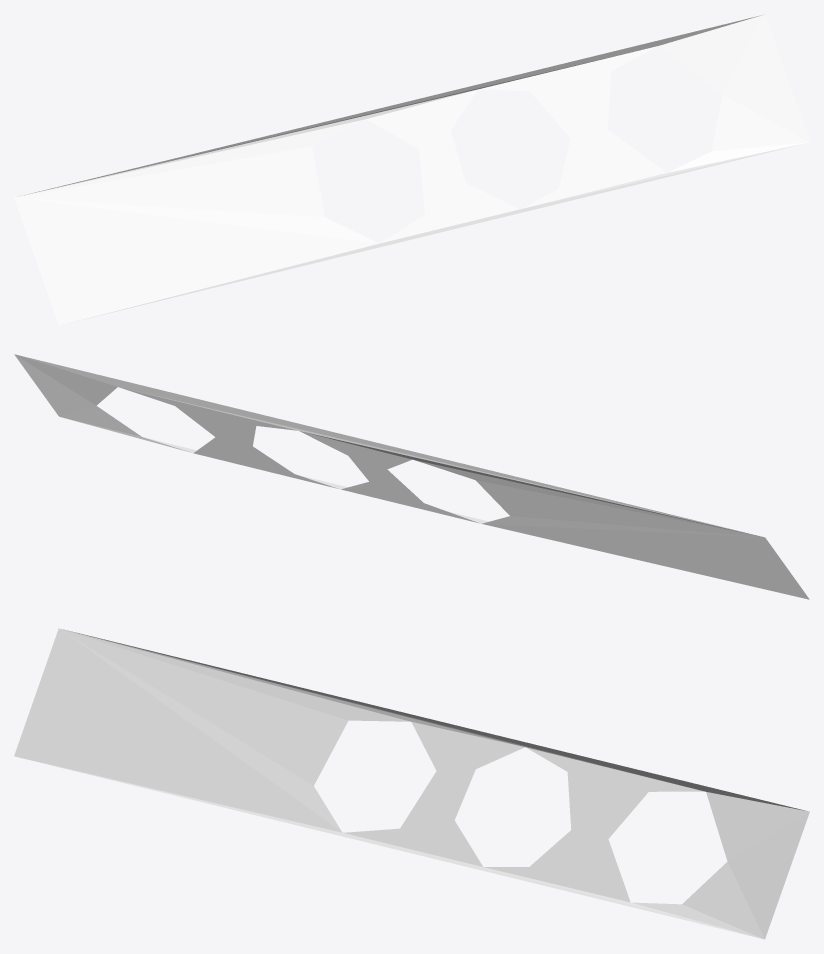
3 renders of one model, top to bottom at view 1: azimuth 30°, elevation 25°; view 2: azimuth 150°, elevation 25°; view 3: azimuth 330°, elevation 25°, orthographic.
Bounding box in the file's own units: 0.5948 × 0.0722 × 0.063.
1 material, 1 textured.
